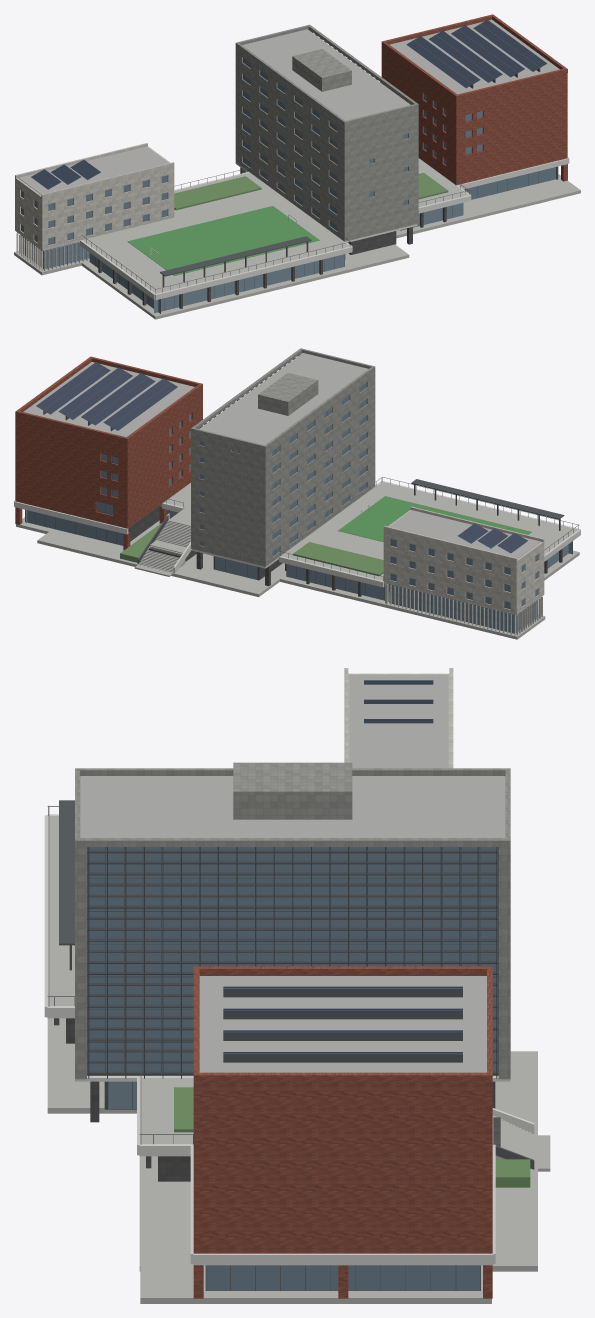
3 views of the same model, one above another, from view 1: azimuth 30°, elevation 25°; view 2: azimuth 150°, elevation 25°; view 3: azimuth 270°, elevation 25° (orthographic). The views are drawn at different scales.
Parts seen in each view (by area): view 1: centennial__stone_grey, centennial__brick_terra, centennial__concrete_deck, centennial__stone_white, centennial__roof_concrete, centennial__turf_green, centennial__solar_panel, centennial__glass_dark, centennial__glass_clear, centennial__concrete_white, centennial__rail_dark, centennial__roof_green (+2 smaller); view 2: centennial__stone_grey, centennial__brick_terra, centennial__concrete_deck, centennial__stone_white, centennial__roof_concrete, centennial__solar_panel, centennial__glass_dark, centennial__glass_clear, centennial__concrete_white, centennial__rail_dark, centennial__turf_green, centennial__roof_green (+2 smaller); view 3: centennial__brick_terra, centennial__glass_dark, centennial__roof_concrete, centennial__concrete_deck, centennial__louver_dark, centennial__stone_grey, centennial__rail_dark, centennial__concrete_white, centennial__solar_panel, centennial__frame, centennial__granite_dark, centennial__roof_green (+2 smaller).
Boxes of the visible parts, bbox=[...] form: centennial__stone_grey: bbox=[235, 24, 418, 241]; centennial__brick_terra: bbox=[381, 14, 567, 185]; centennial__concrete_deck: bbox=[14, 158, 580, 319]; centennial__stone_white: bbox=[15, 143, 174, 271]; centennial__roof_concrete: bbox=[18, 19, 559, 194]; centennial__turf_green: bbox=[127, 206, 319, 275]; centennial__solar_panel: bbox=[31, 20, 546, 189]; centennial__glass_dark: bbox=[21, 58, 557, 244]; centennial__glass_clear: bbox=[20, 203, 462, 313]; centennial__concrete_white: bbox=[80, 157, 569, 299]; centennial__rail_dark: bbox=[82, 24, 540, 293]; centennial__roof_green: bbox=[174, 172, 448, 210]; centennial__stone_grey: bbox=[191, 348, 375, 566]; centennial__brick_terra: bbox=[15, 356, 202, 550]; centennial__concrete_deck: bbox=[16, 482, 579, 639]; centennial__stone_white: bbox=[383, 506, 544, 635]; centennial__roof_concrete: bbox=[23, 353, 540, 558]; centennial__solar_panel: bbox=[36, 362, 527, 553]; centennial__glass_dark: bbox=[25, 382, 538, 608]; centennial__glass_clear: bbox=[170, 510, 572, 633]; centennial__concrete_white: bbox=[14, 481, 580, 587]; centennial__rail_dark: bbox=[43, 366, 578, 580]; centennial__turf_green: bbox=[338, 496, 531, 541]; centennial__roof_green: bbox=[120, 522, 383, 576]; centennial__brick_terra: bbox=[193, 966, 492, 1298]; centennial__glass_dark: bbox=[87, 847, 497, 1290]; centennial__roof_concrete: bbox=[80, 674, 505, 1072]; centennial__concrete_deck: bbox=[47, 816, 550, 1303]; centennial__louver_dark: bbox=[87, 847, 498, 1078]; centennial__stone_grey: bbox=[75, 762, 510, 1079]; centennial__rail_dark: bbox=[47, 800, 534, 1169]; centennial__concrete_white: bbox=[44, 814, 534, 1265]; centennial__solar_panel: bbox=[223, 680, 462, 1056]; centennial__frame: bbox=[87, 847, 498, 1290]; centennial__granite_dark: bbox=[54, 1018, 500, 1181]; centennial__roof_green: bbox=[174, 1087, 530, 1187].
Bounding box in the file's own units: 114 × 34.7 × 51.05.
15 materials, 4 textured.
